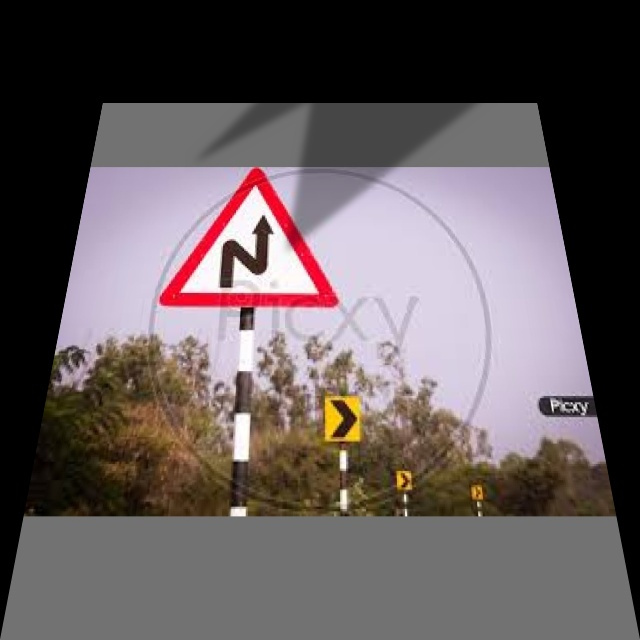Right_Reverse_Bend: (164, 167, 335, 305)
